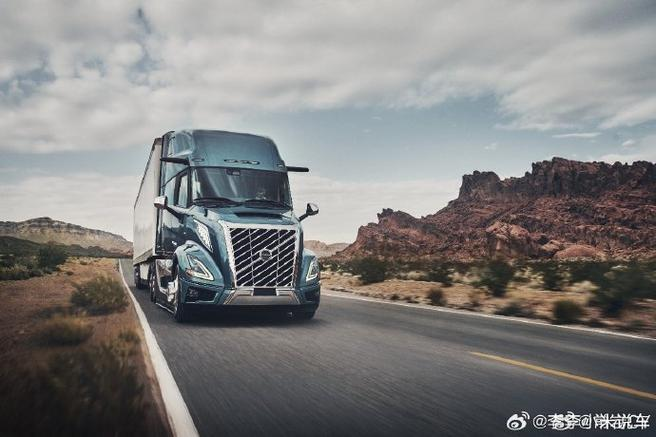卡车: (119, 128, 344, 326)
